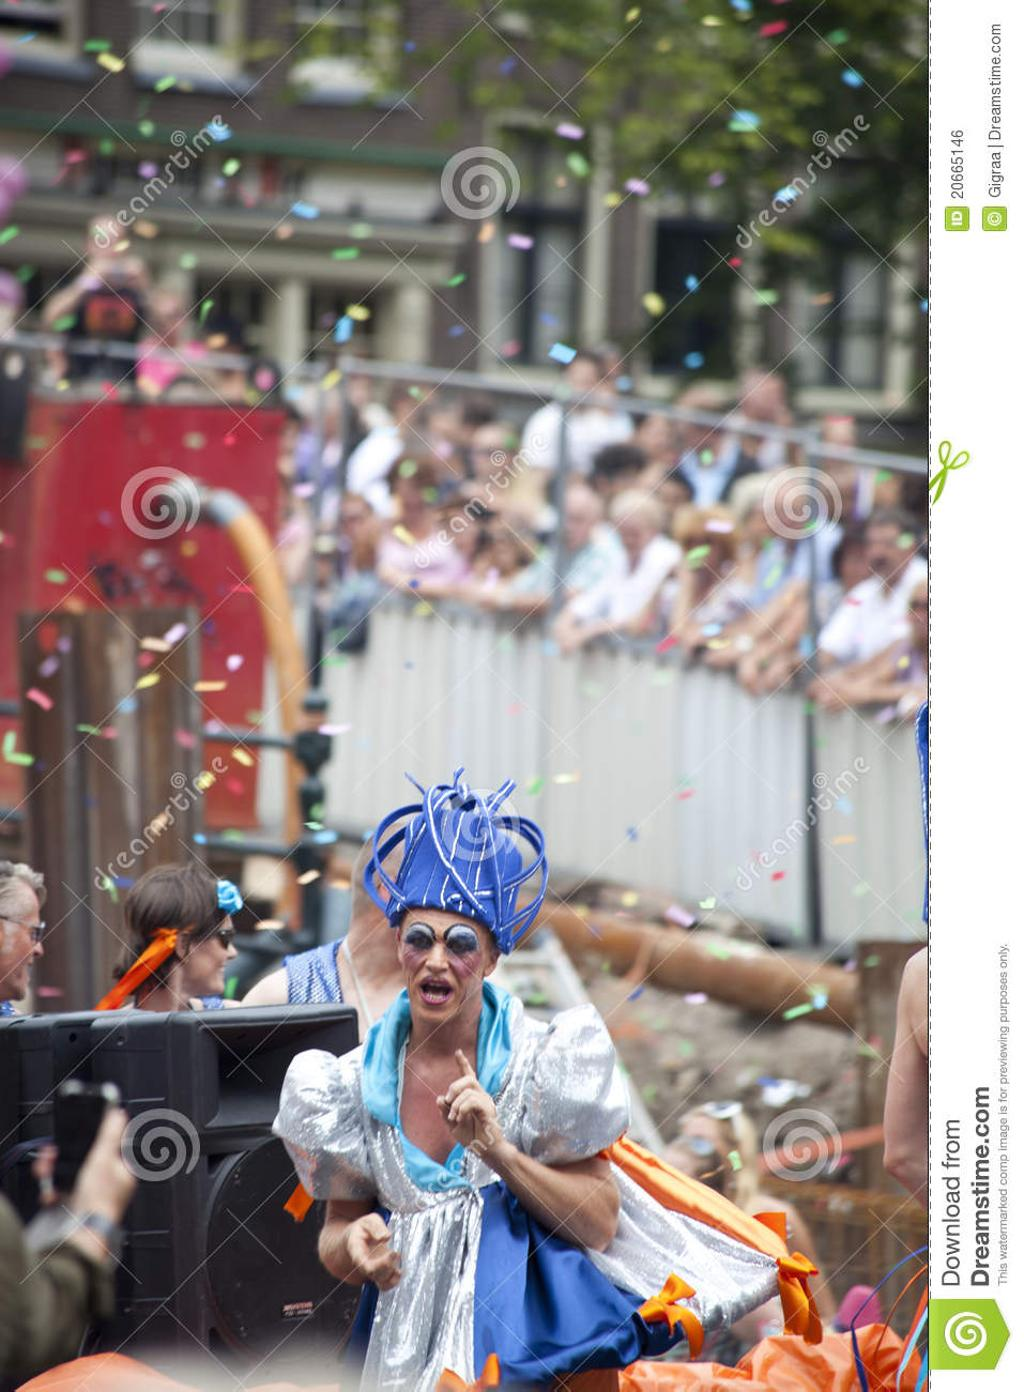face: (398, 900, 488, 1019), (177, 914, 235, 991), (1, 895, 42, 994)
